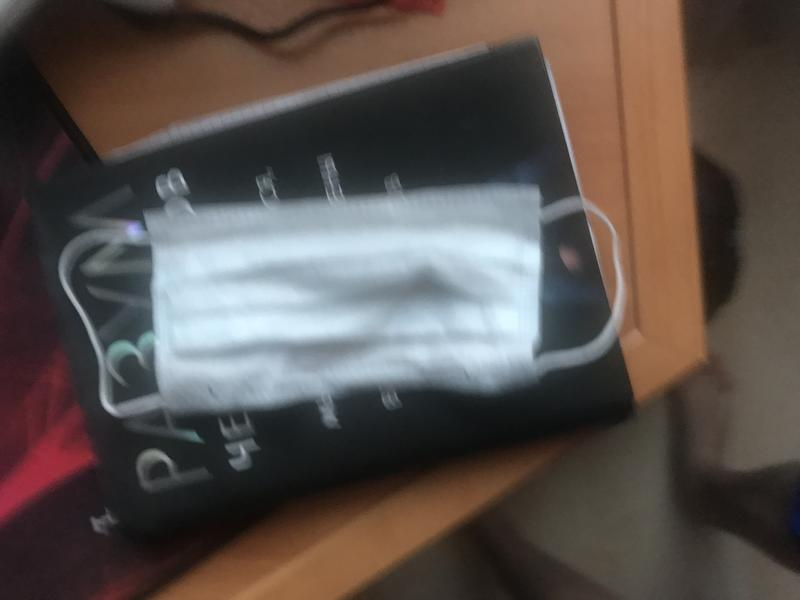medical_mask: (59, 193, 624, 418)
